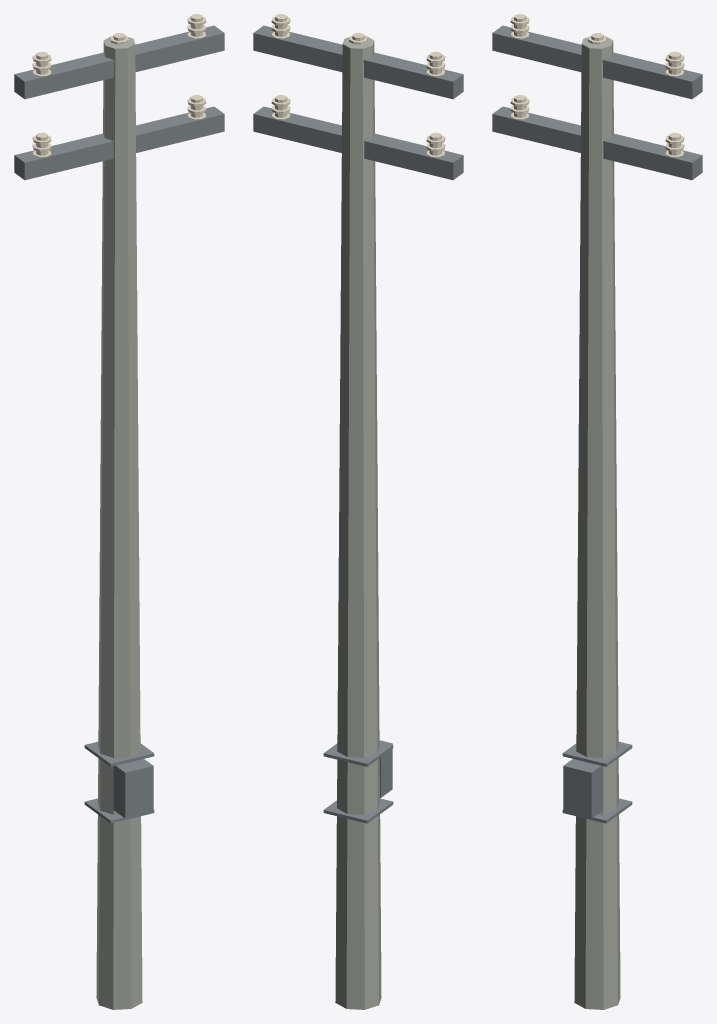
Rendered from UtilityPole.glb.
3 views of the same model, side by side, from view 1: azimuth 30°, elevation 25°; view 2: azimuth 150°, elevation 25°; view 3: azimuth 330°, elevation 25° (orthographic).
Visible parts, largest first — view 1: ST_Concrete_Pole.001, ST_UtilityPole_PBK_Indochine_metal.001, ST_UtilityPole_ST_cream.001; view 2: ST_Concrete_Pole.001, ST_UtilityPole_PBK_Indochine_metal.001, ST_UtilityPole_ST_cream.001; view 3: ST_Concrete_Pole.001, ST_UtilityPole_PBK_Indochine_metal.001, ST_UtilityPole_ST_cream.001.
Part boxes in pixels (x1,y1,x2,y2): ST_Concrete_Pole.001: [96, 36, 142, 1009]; ST_UtilityPole_PBK_Indochine_metal.001: [14, 25, 224, 823]; ST_UtilityPole_ST_cream.001: [32, 14, 206, 157]; ST_Concrete_Pole.001: [335, 36, 381, 1009]; ST_UtilityPole_PBK_Indochine_metal.001: [253, 25, 463, 823]; ST_UtilityPole_ST_cream.001: [271, 14, 445, 157]; ST_Concrete_Pole.001: [574, 36, 620, 1009]; ST_UtilityPole_PBK_Indochine_metal.001: [492, 25, 702, 823]; ST_UtilityPole_ST_cream.001: [510, 14, 684, 157].
Bounding box in the file's own units: 1.55 × 7.15 × 0.445.
